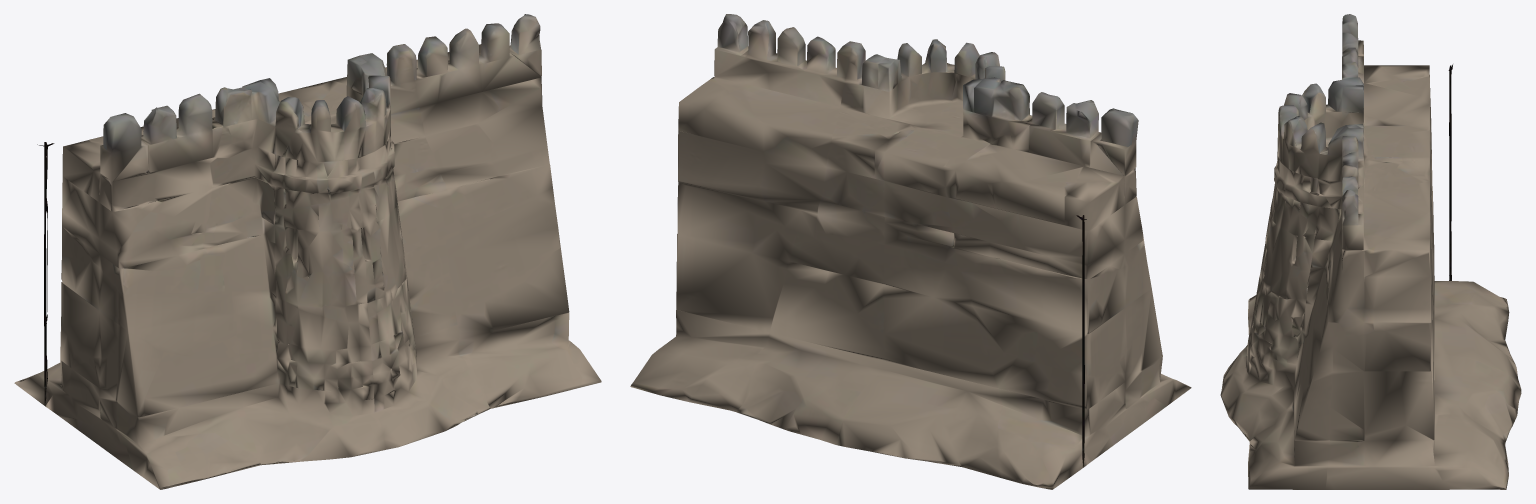
File: shahar_devori.glb
3 views of the same model, side by side, from view 1: azimuth 30°, elevation 25°; view 2: azimuth 150°, elevation 25°; view 3: azimuth 270°, elevation 25° (orthographic). The views are drawn at different scales.
Visible parts, largest first — view 1: tripo_node_6fbc63e6-1c73-4ede-b22b-536a22099e3f; view 2: tripo_node_6fbc63e6-1c73-4ede-b22b-536a22099e3f; view 3: tripo_node_6fbc63e6-1c73-4ede-b22b-536a22099e3f.
Part boxes in pixels (bbox=[...]): tripo_node_6fbc63e6-1c73-4ede-b22b-536a22099e3f: bbox=[14, 14, 601, 489]; tripo_node_6fbc63e6-1c73-4ede-b22b-536a22099e3f: bbox=[630, 14, 1191, 489]; tripo_node_6fbc63e6-1c73-4ede-b22b-536a22099e3f: bbox=[1220, 14, 1521, 489].
Size of the model in its own units: 0.9792 by 0.6864 by 0.6411.
Materials: 1 (1 with a texture image).
